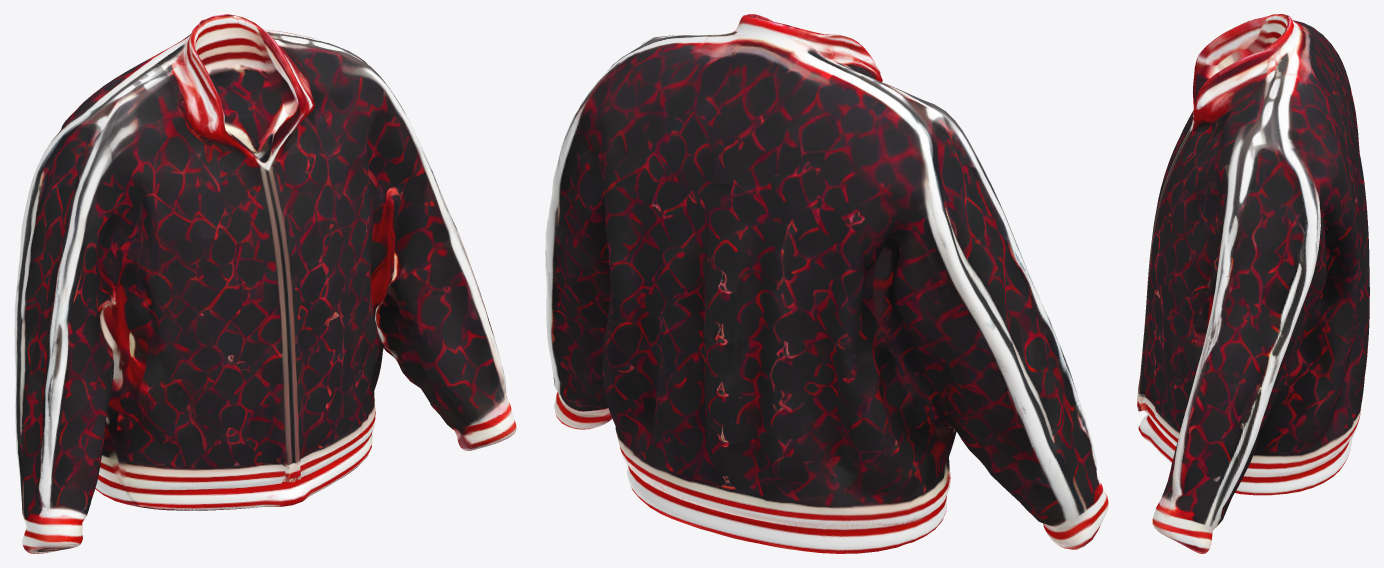
File: base_basic_shaded.glb
3 views of the same model, side by side, from view 1: azimuth 30°, elevation 25°; view 2: azimuth 150°, elevation 25°; view 3: azimuth 270°, elevation 25° (orthographic). The views are drawn at different scales.
Parts seen in each view (by area): view 1: model; view 2: model; view 3: model.
Part boxes in pixels (x1,y1,x2,y2): model: (14,14,516,553); model: (545,14,1108,553); model: (1137,14,1369,553).
Bounding box in the file's own units: 1.9 × 1.71 × 0.8394.
Materials: 1 (1 with a texture image).
